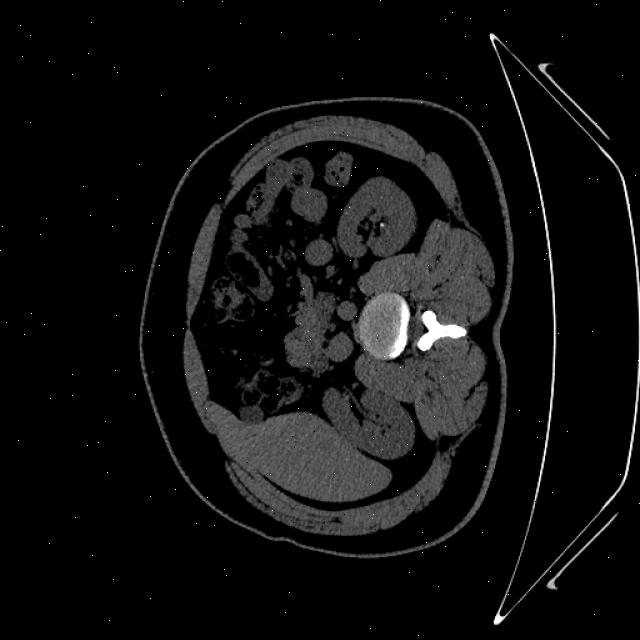kidneystone: (379, 219, 388, 230)
